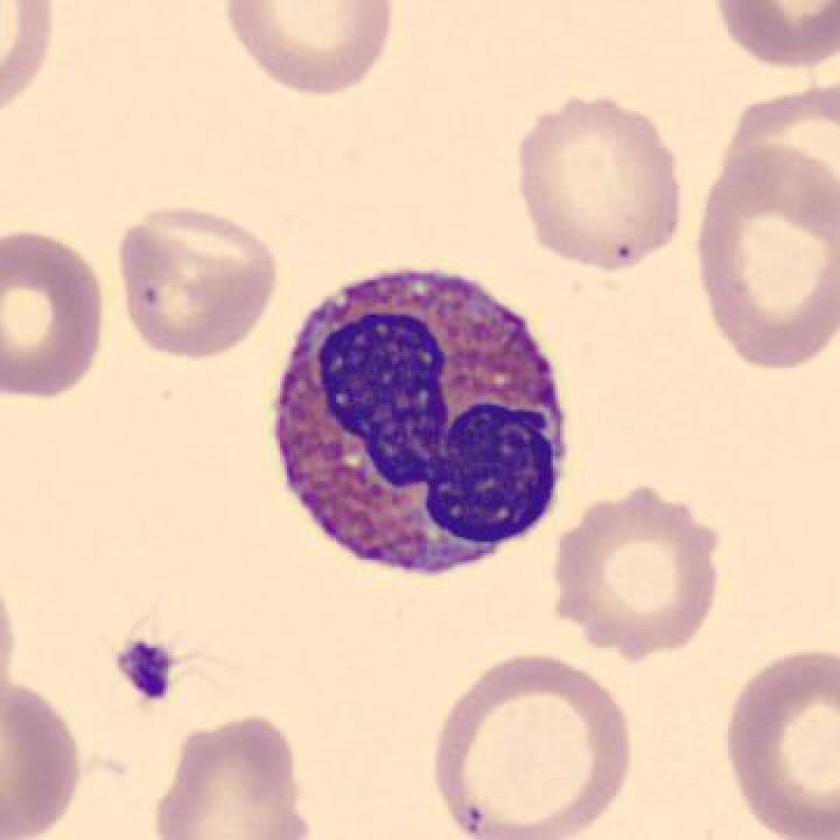eosinophil: (263, 251, 578, 589)
